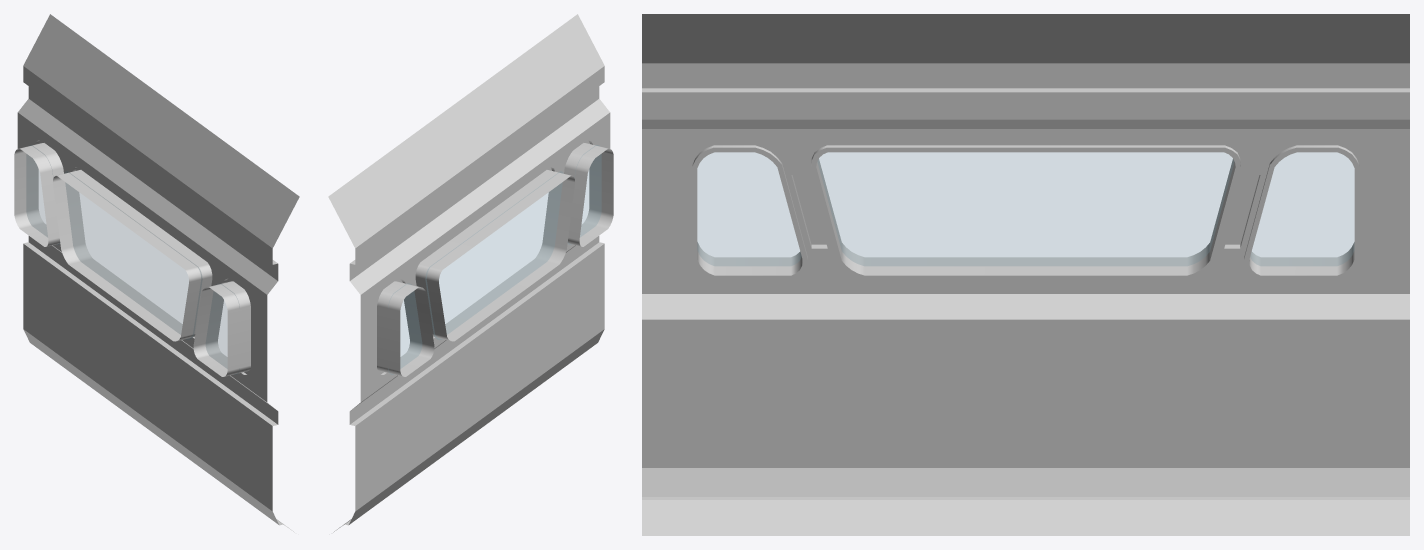
File: Wall_Window.fbx
The picture shows the model from 3 angles, left to right: view 1: azimuth 30°, elevation 25°; view 2: azimuth 150°, elevation 25°; view 3: azimuth 270°, elevation 25°; orthographic projection. The views are drawn at different scales.
Parts seen in each view (by area): view 1: Wall_Window; view 2: Wall_Window; view 3: Wall_Window.
Part boxes in pixels (x1,y1,x2,y2): Wall_Window: (14,14,299,532); Wall_Window: (328,14,613,532); Wall_Window: (642,14,1409,535).
Bounding box in the file's own units: 50 × 300 × 400.
